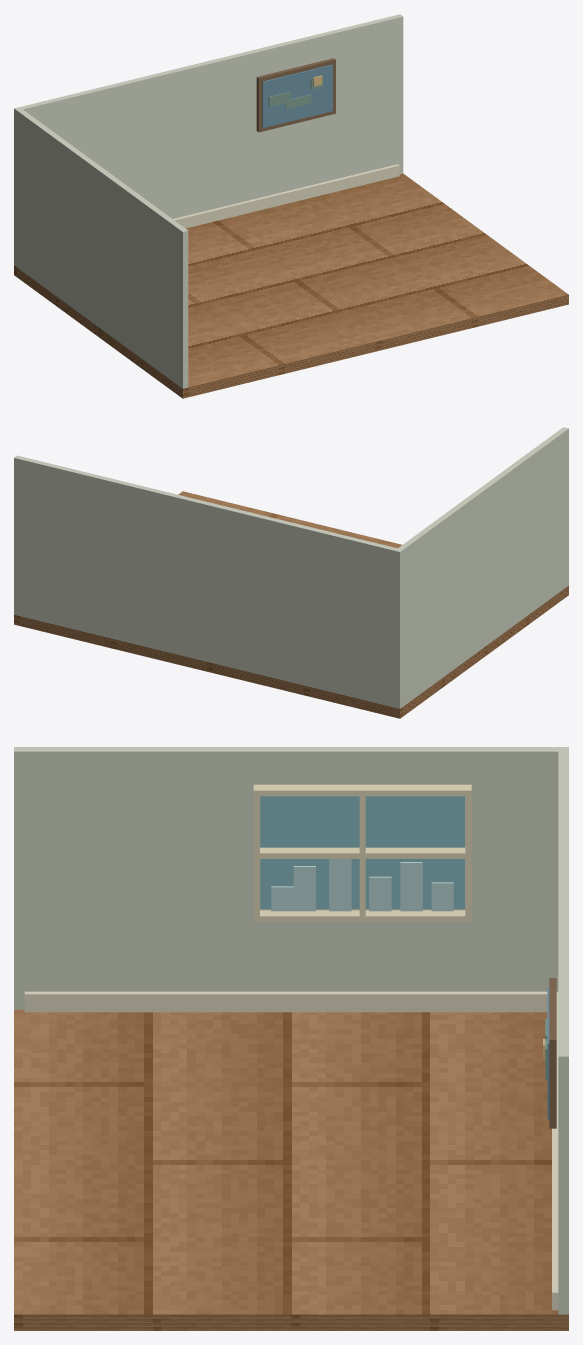
Rendered from room_shell.glb.
3 renders of one model, top to bottom at view 1: azimuth 30°, elevation 25°; view 2: azimuth 150°, elevation 25°; view 3: azimuth 270°, elevation 25°, orthographic. The views are drawn at different scales.
Visible parts, largest first — view 1: Floor, Back_Wall, Left_Wall, Back_Skirting, Back_Picture, Back_PictureFrame, Back_PixelArt; view 2: Back_Wall, Left_Wall, Floor; view 3: Floor, Left_Wall, Left_Window, Left_Skirting, Left_Frame, Back_Wall, Left_Skyline, Back_Skirting, Back_PictureFrame.
Boxes of the visible parts, x1,y1,x2,y2 form: Floor: [14, 173, 568, 398]; Back_Wall: [14, 14, 403, 266]; Left_Wall: [14, 107, 188, 388]; Back_Skirting: [173, 164, 399, 228]; Back_Picture: [262, 64, 332, 127]; Back_PictureFrame: [256, 58, 335, 132]; Back_PixelArt: [268, 76, 323, 109]; Back_Wall: [14, 455, 403, 708]; Left_Wall: [394, 427, 568, 708]; Floor: [14, 491, 568, 718]; Floor: [14, 1009, 568, 1330]; Left_Wall: [14, 747, 568, 1009]; Left_Window: [260, 796, 464, 908]; Left_Skirting: [24, 991, 557, 1012]; Left_Frame: [253, 784, 471, 921]; Back_Wall: [558, 747, 568, 1314]; Left_Skyline: [271, 859, 453, 911]; Back_Skirting: [552, 991, 558, 1310]; Back_PictureFrame: [549, 978, 556, 1128].
Bounding box in the file's own units: 8.24 × 3.4 × 6.24.
Materials: 10 (1 with a texture image).
